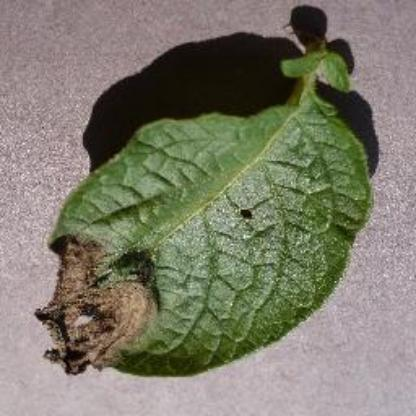Late-Blight: (34, 60, 384, 388)
